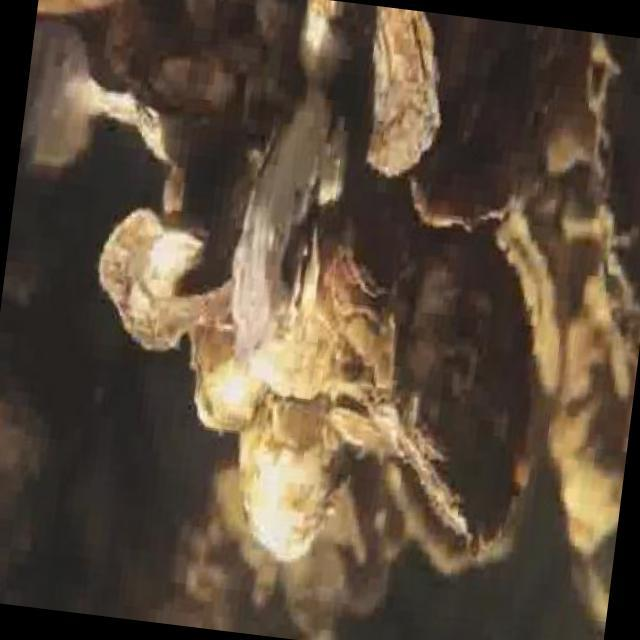Oyster- Indeterminate: (378, 237, 526, 563), (561, 40, 640, 453), (232, 81, 338, 348), (230, 386, 356, 561), (93, 202, 239, 344), (405, 97, 513, 236), (246, 286, 360, 395), (372, 468, 466, 582), (112, 32, 239, 112), (334, 164, 409, 299), (281, 542, 338, 635), (207, 464, 254, 568), (297, 0, 351, 90), (343, 536, 390, 613)
Oyster-Closed: (350, 3, 443, 180), (178, 322, 257, 430), (57, 67, 143, 123), (284, 215, 322, 321), (319, 406, 389, 459), (97, 0, 134, 58)
